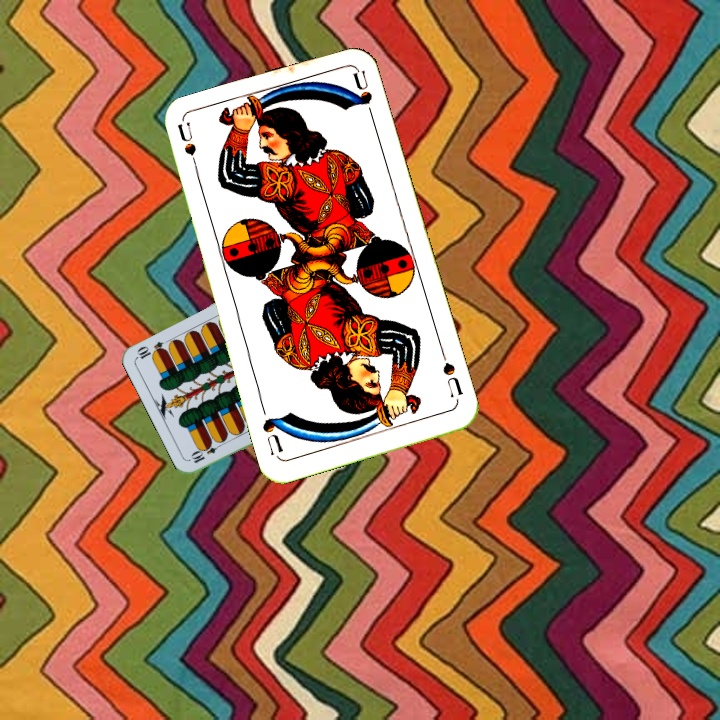E10: (187, 438, 226, 466)
SU: (174, 120, 202, 180), (437, 347, 466, 400)
